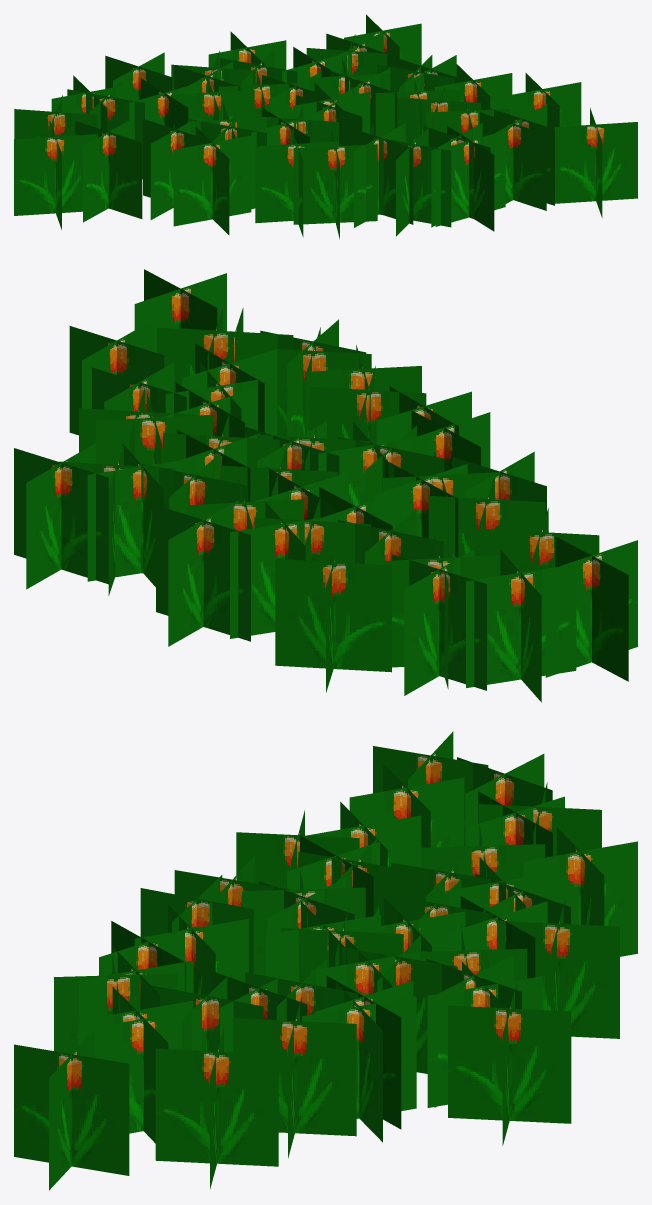
Rendered from HTOWN01_TULIPORANG01.fbx.
3 views of the same model, one above another, from view 1: azimuth 30°, elevation 25°; view 2: azimuth 150°, elevation 25°; view 3: azimuth 270°, elevation 25° (orthographic). The views are drawn at different scales.
Parts seen in each view (by area): view 1: HTOWN01_TULIPORANG01; view 2: HTOWN01_TULIPORANG01; view 3: HTOWN01_TULIPORANG01.
Boxes of the visible parts, x1,y1,x2,y2 form: HTOWN01_TULIPORANG01: (14,14,637,239); HTOWN01_TULIPORANG01: (14,269,637,702); HTOWN01_TULIPORANG01: (14,731,637,1190).
Size of the model in its own units: 33146 by 5000 by 25164.
Materials: 1 (1 with a texture image).
